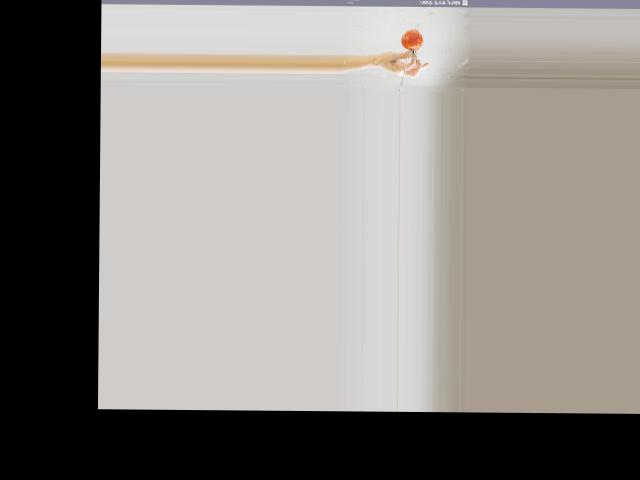tomato: (399, 28, 421, 49)
